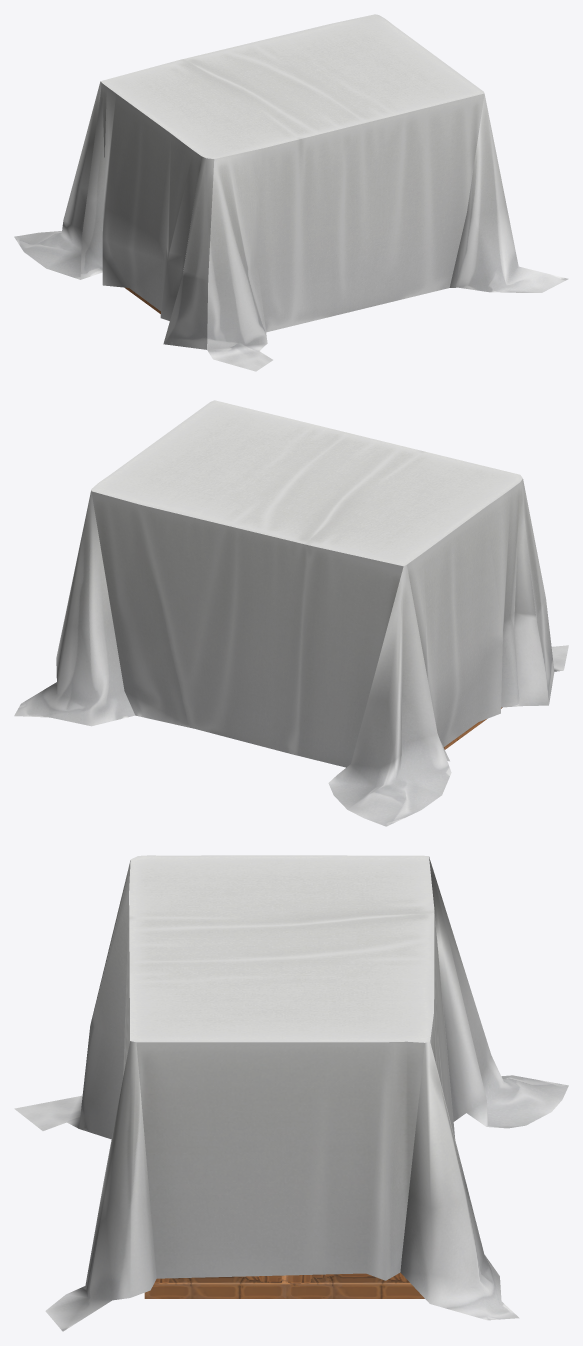
Rendered from Pfb_Box_GRP__3.fbx.
The picture shows the model from 3 angles, top to bottom: view 1: azimuth 30°, elevation 25°; view 2: azimuth 150°, elevation 25°; view 3: azimuth 270°, elevation 25°; orthographic projection. The views are drawn at different scales.
Visible parts, largest first — view 1: MAT_Canvas_01_White; view 2: MAT_Canvas_01_White; view 3: MAT_Canvas_01_White, Mat_WoodBox_01_1.
Part boxes in pixels (x1,y1,x2,y2): MAT_Canvas_01_White: (14, 14, 568, 371); MAT_Canvas_01_White: (14, 400, 568, 826); MAT_Canvas_01_White: (14, 855, 568, 1331); Mat_WoodBox_01_1: (144, 1272, 424, 1298).
Size of the model in its own units: 3.25 by 1.53 by 2.98.
2 materials, 2 textured.
